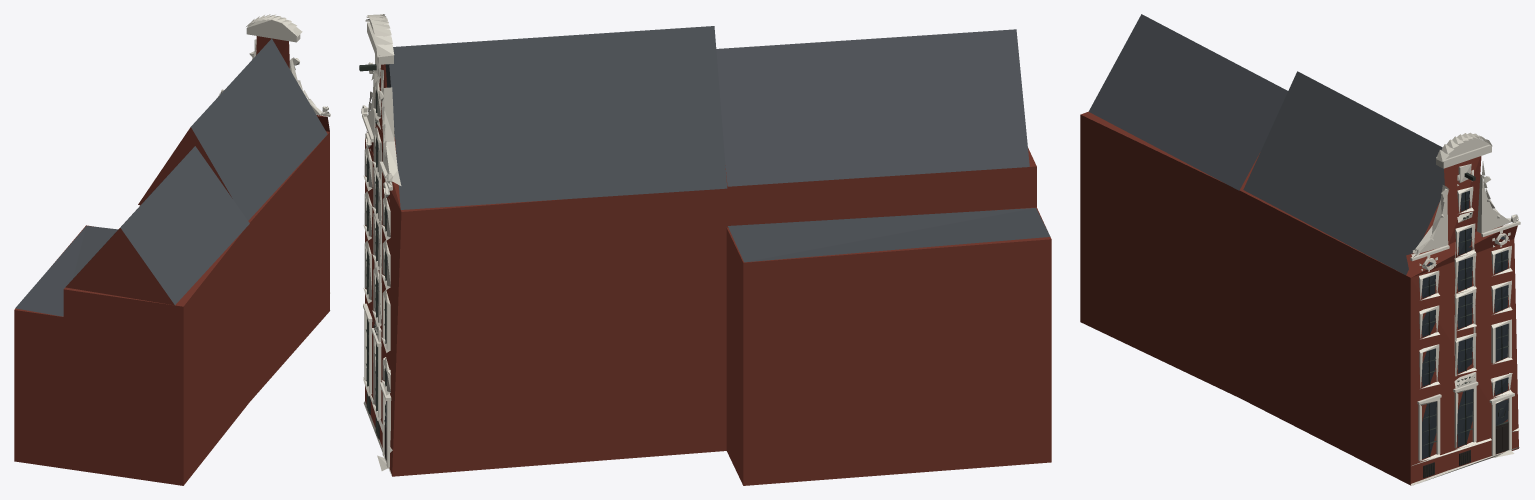
Rendered from odeon-singel.lod1.glb.
3 renders of one model, left to right at view 1: azimuth 30°, elevation 25°; view 2: azimuth 150°, elevation 25°; view 3: azimuth 270°, elevation 25°, orthographic. The views are drawn at different scales.
Visible parts, largest first — view 1: odeon-singel; view 2: odeon-singel; view 3: odeon-singel.
Part boxes in pixels (box(x1,y1,x2,y2)): odeon-singel: box(14, 14, 330, 485); odeon-singel: box(359, 14, 1051, 485); odeon-singel: box(1080, 14, 1520, 485).
Bounding box in the file's own units: 35.5 × 24.68 × 29.77.
